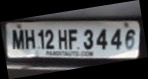character: (110, 27, 122, 50), (95, 28, 107, 50), (11, 29, 24, 49), (124, 28, 135, 51), (82, 28, 93, 50), (24, 28, 35, 49), (57, 28, 67, 50), (44, 28, 54, 49), (67, 28, 77, 49), (37, 28, 44, 50)
